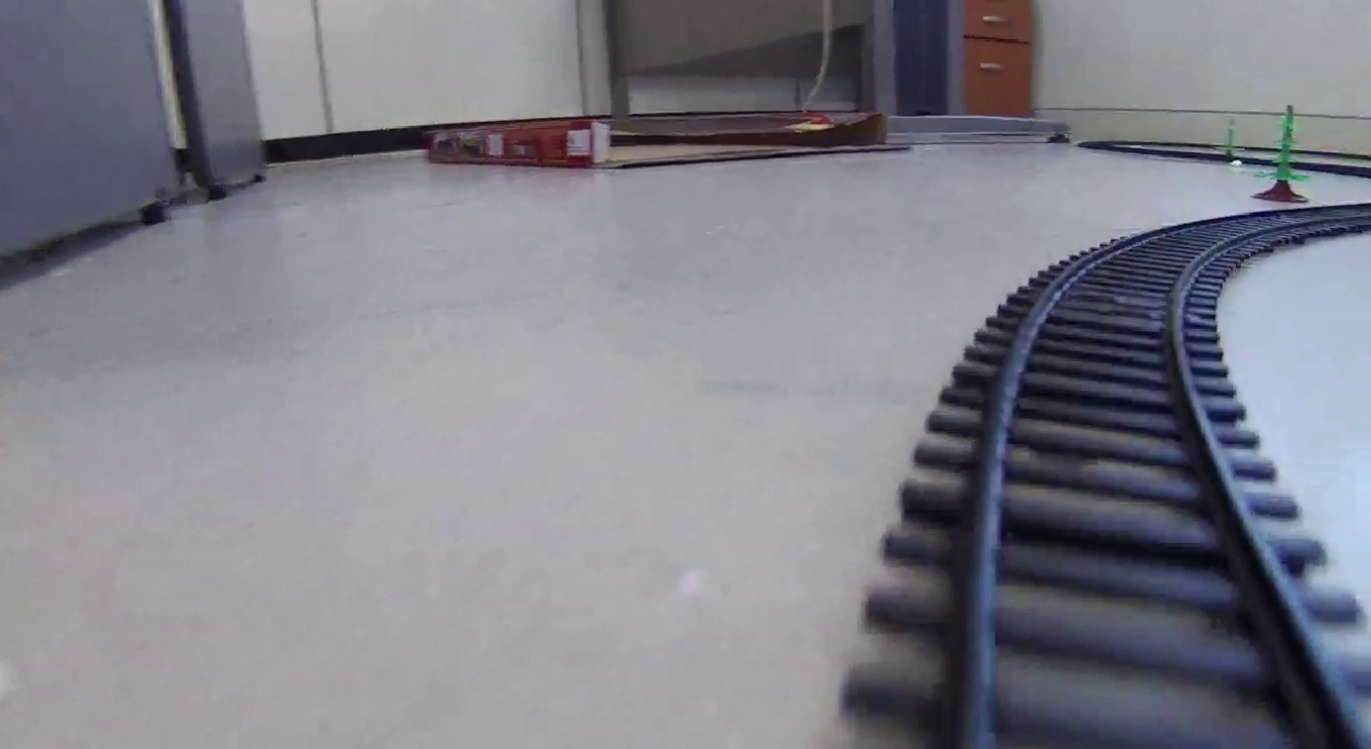tree: (1254, 102, 1310, 202)
